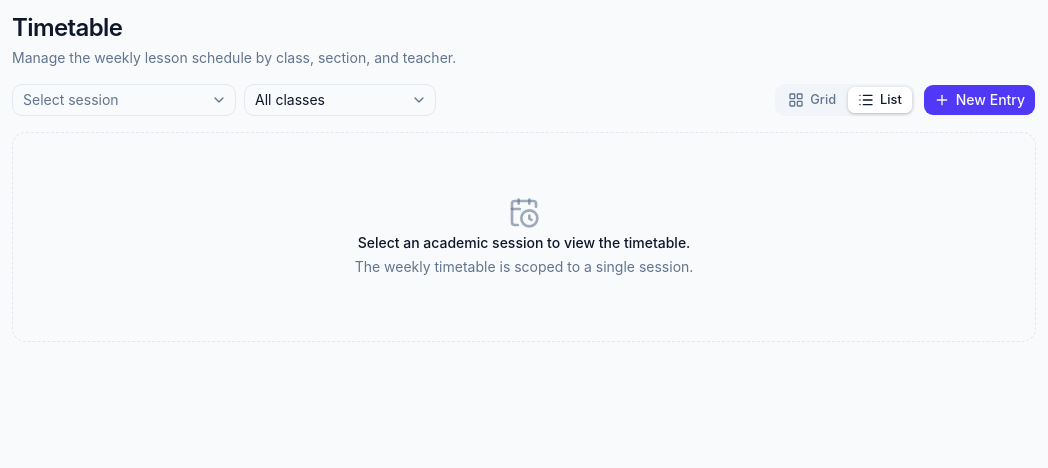
Test: TimetablePage view modes › still renders the Grid on demand at mobile widths, without hiding classes
Press the mouse on the dropdown named "Academic session" at (124, 100), box [12,84,236,116]
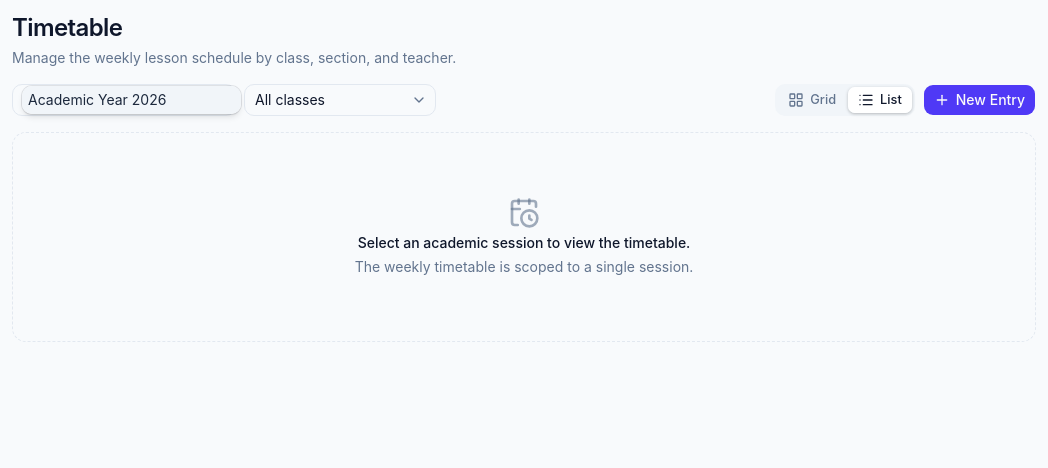
Click the option "Academic Year 2026" at (132, 100), box [22,86,241,114]
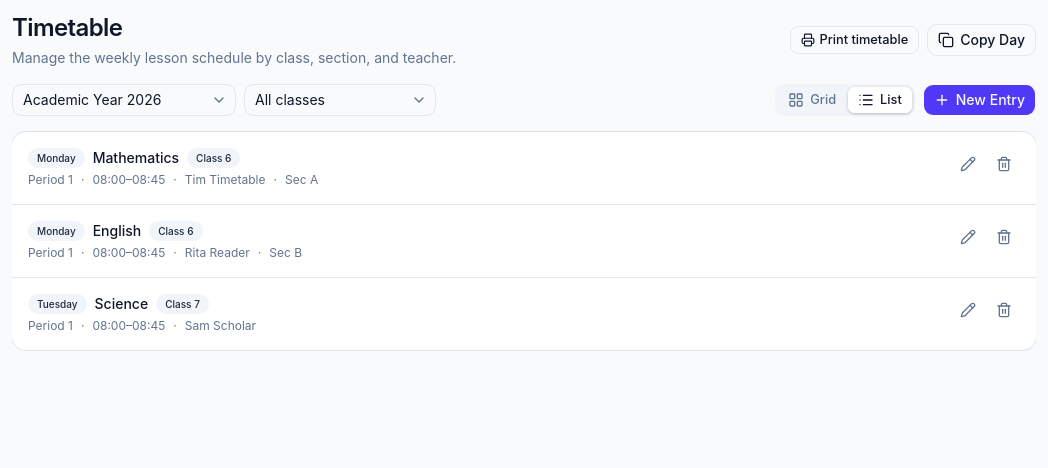
Click the button with aria-label "Grid view" at (812, 100), box [777,86,847,114]
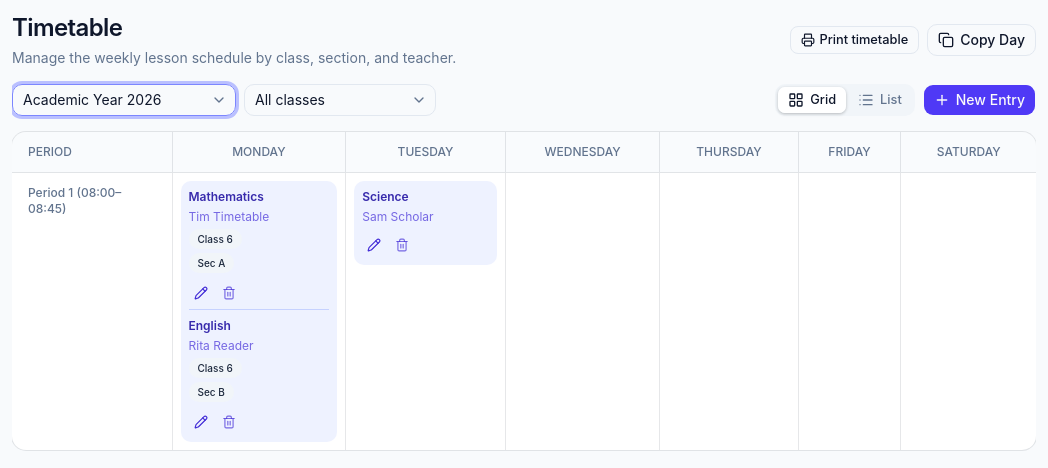
Expected: the text "Mathematics" is shown, [188,189,264,204]
Expected: the text "English" is shown, [188,318,231,333]
Expected: the table is shown
